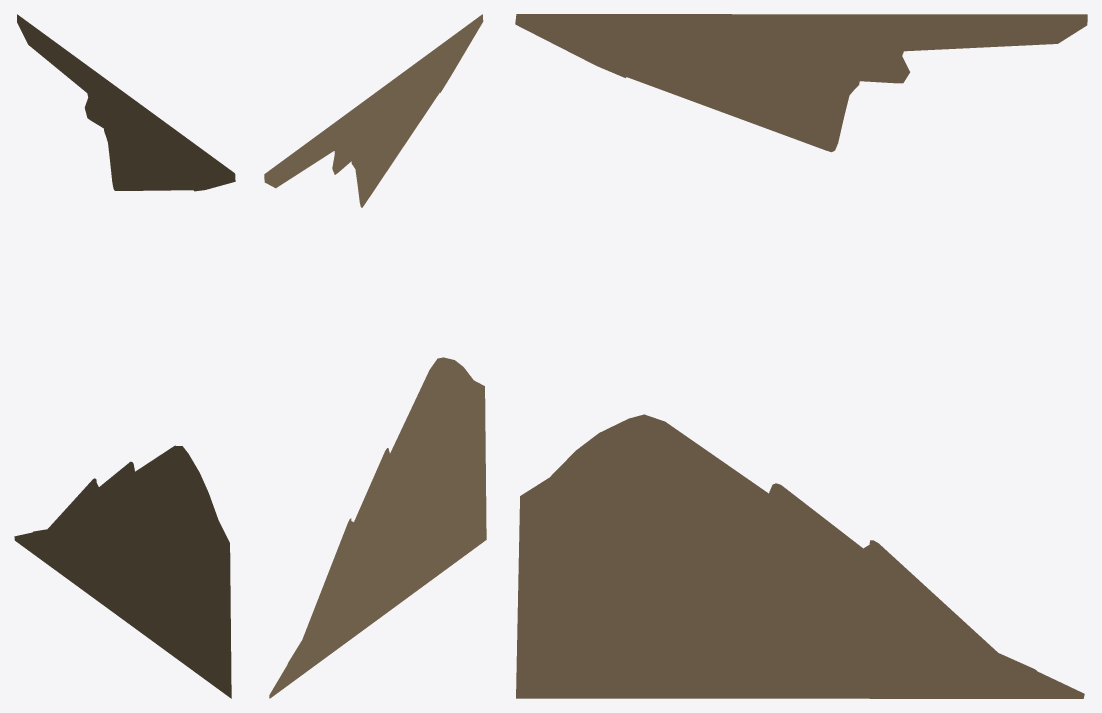
Rendered from top and down uv  1.fbx.
3 views of the same model, side by side, from view 1: azimuth 30°, elevation 25°; view 2: azimuth 150°, elevation 25°; view 3: azimuth 270°, elevation 25° (orthographic). The views are drawn at different scales.
Parts seen in each view (by area): view 1: Plane.078, Plane.068; view 2: Plane.078, Plane.068; view 3: Plane.078, Plane.068.
Part boxes in pixels (x1=…): Plane.078: x1=14, y1=445, x2=231, y2=698; Plane.068: x1=17, y1=14, x2=235, y2=191; Plane.078: x1=269, y1=357, x2=486, y2=698; Plane.068: x1=264, y1=14, x2=483, y2=207; Plane.078: x1=516, y1=414, x2=1084, y2=698; Plane.068: x1=515, y1=14, x2=1087, y2=152.
Size of the model in its own units: 12.18 by 1196 by 903.
